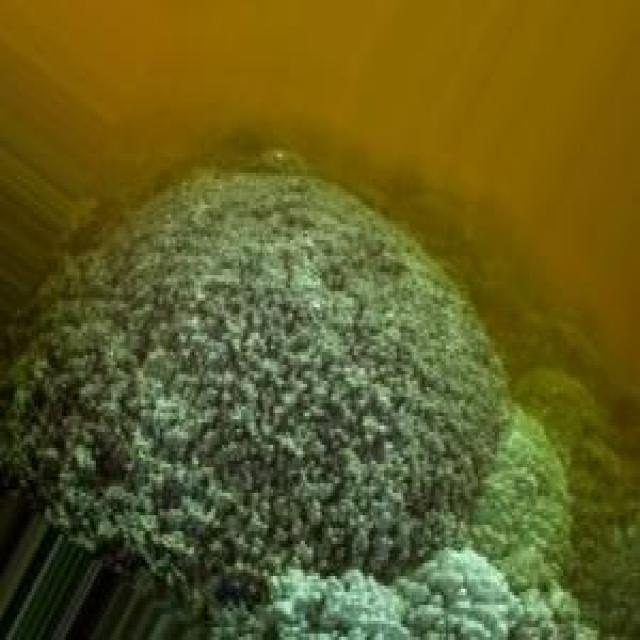Bleached: (5, 174, 507, 590), (268, 555, 526, 640), (472, 398, 571, 599), (401, 543, 531, 640)
